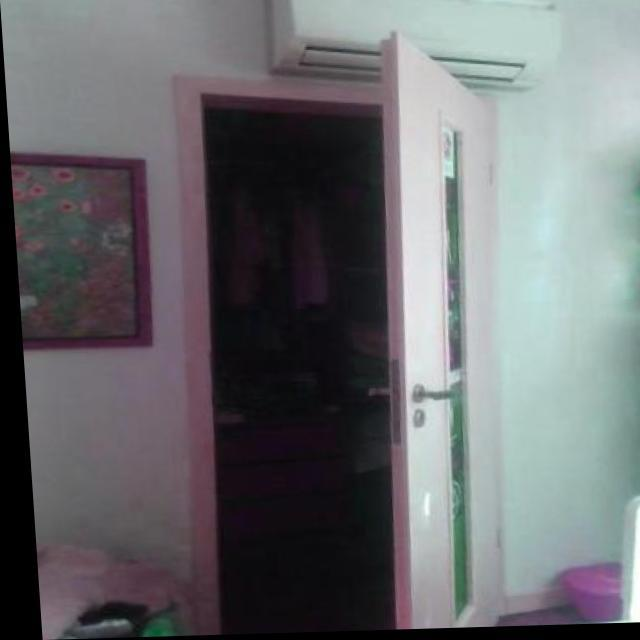door_handle: (409, 382, 465, 412)
